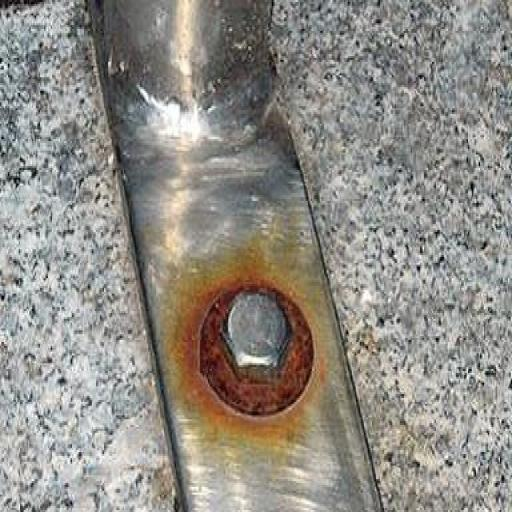corrosion: (200, 286, 314, 413)
